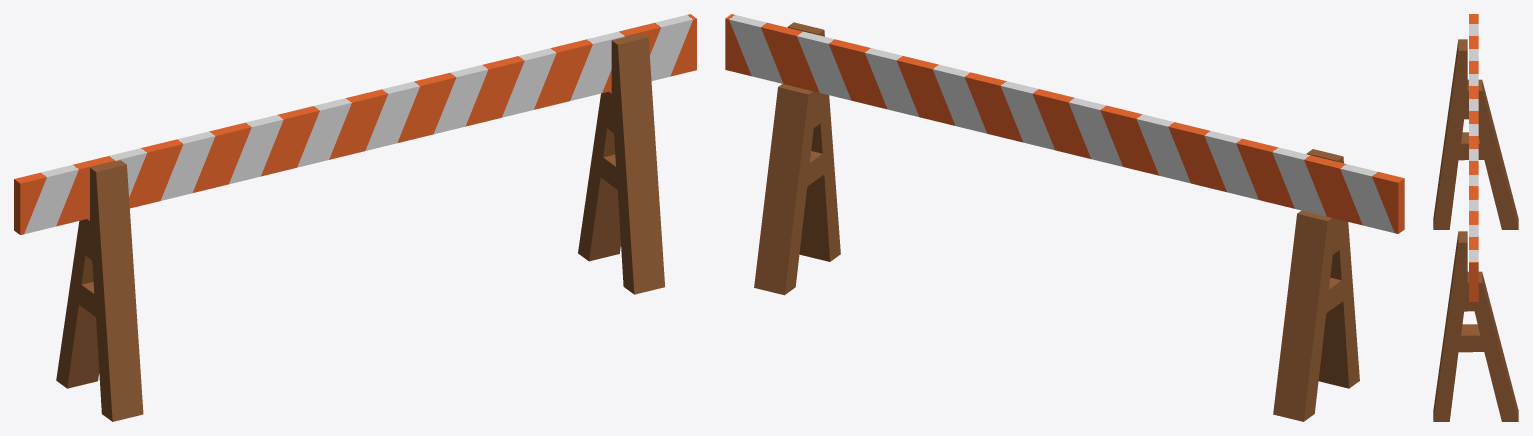
Rendered from Construction_Barrier.FBX.
3 renders of one model, left to right at view 1: azimuth 30°, elevation 25°; view 2: azimuth 150°, elevation 25°; view 3: azimuth 270°, elevation 25°, orthographic. The views are drawn at different scales.
Parts seen in each view (by area): view 1: BarrierBar, BarrierLeg1, BarrierLeg2; view 2: BarrierBar, BarrierLeg2, BarrierLeg1; view 3: BarrierLeg1, BarrierLeg2, BarrierBar.
Boxes of the visible parts, x1,y1,x2,y2 form: BarrierBar: [14, 14, 696, 234]; BarrierLeg1: [578, 33, 664, 294]; BarrierLeg2: [56, 160, 143, 421]; BarrierBar: [725, 14, 1404, 233]; BarrierLeg2: [1273, 149, 1359, 421]; BarrierLeg1: [754, 22, 840, 295]; BarrierLeg1: [1433, 231, 1518, 421]; BarrierLeg2: [1433, 39, 1518, 229]; BarrierBar: [1469, 14, 1478, 301].
Size of the model in its own units: 257 by 37.24 by 86.42.
